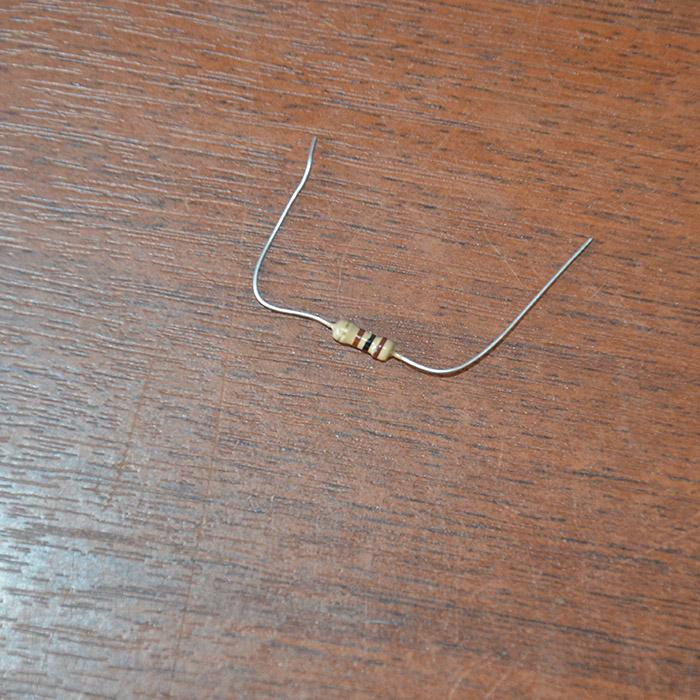resistor: (329, 319, 396, 362)
